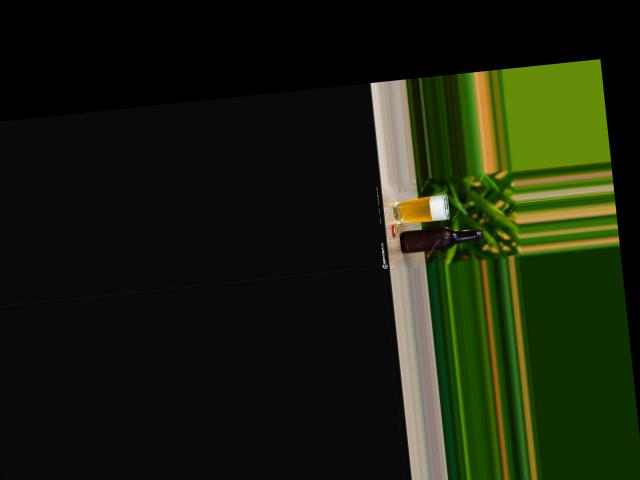beer: (398, 223, 483, 252)
